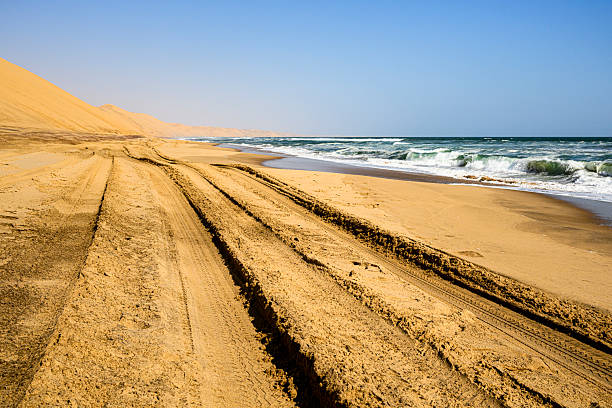vehicle_track: (364, 246, 611, 391)
